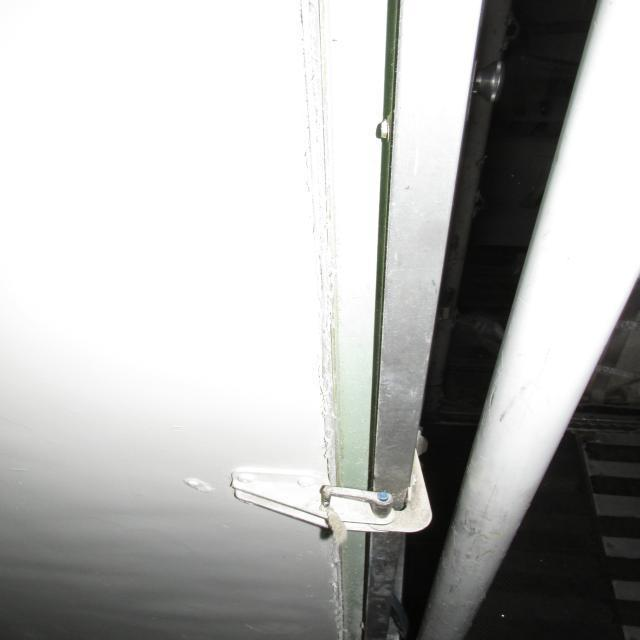dent: (376, 352, 428, 403)
